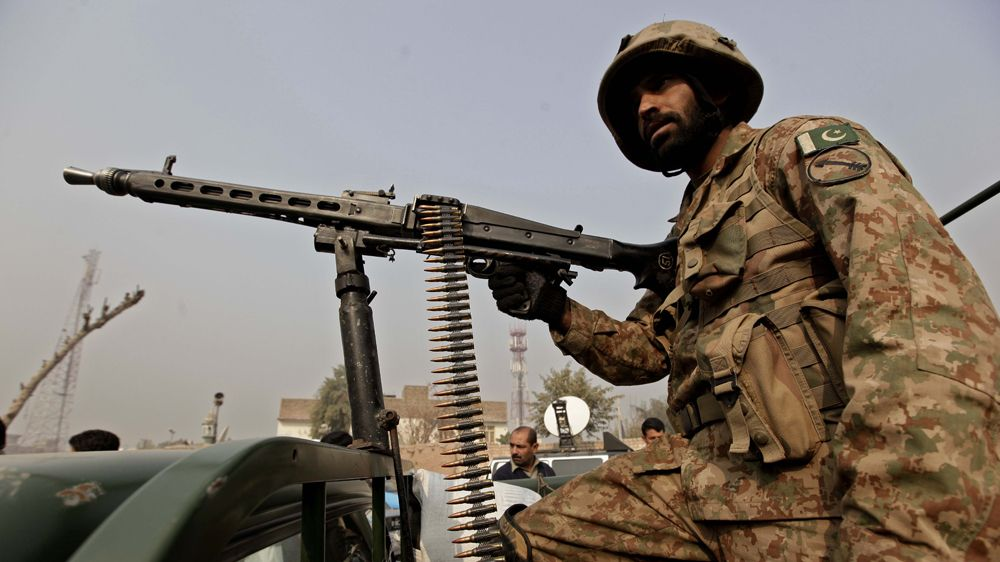gun: (34, 125, 668, 307)
uniform: (557, 38, 989, 542)
